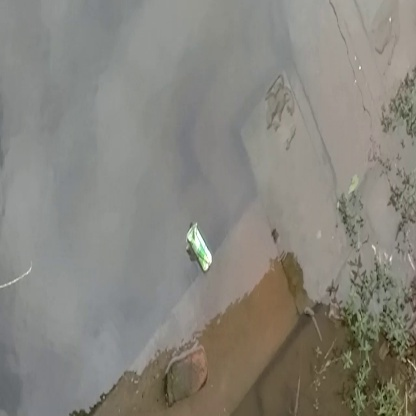milk-box: (182, 213, 218, 274)
